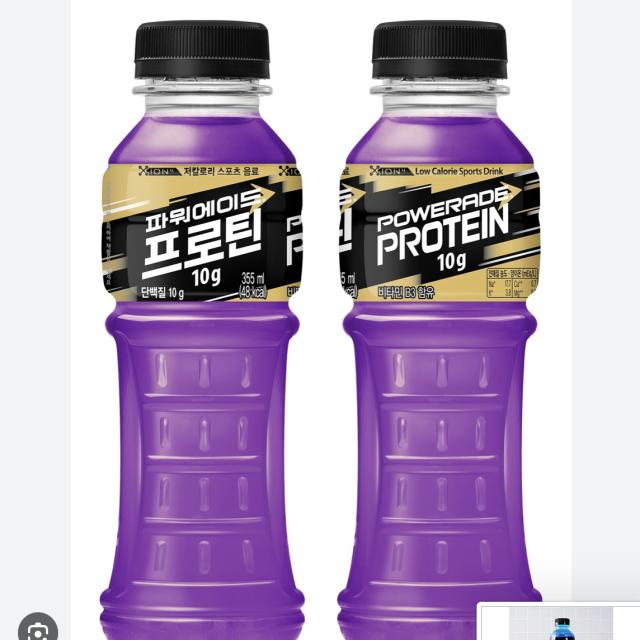recyclable: (86, 12, 320, 640), (326, 10, 556, 640)
